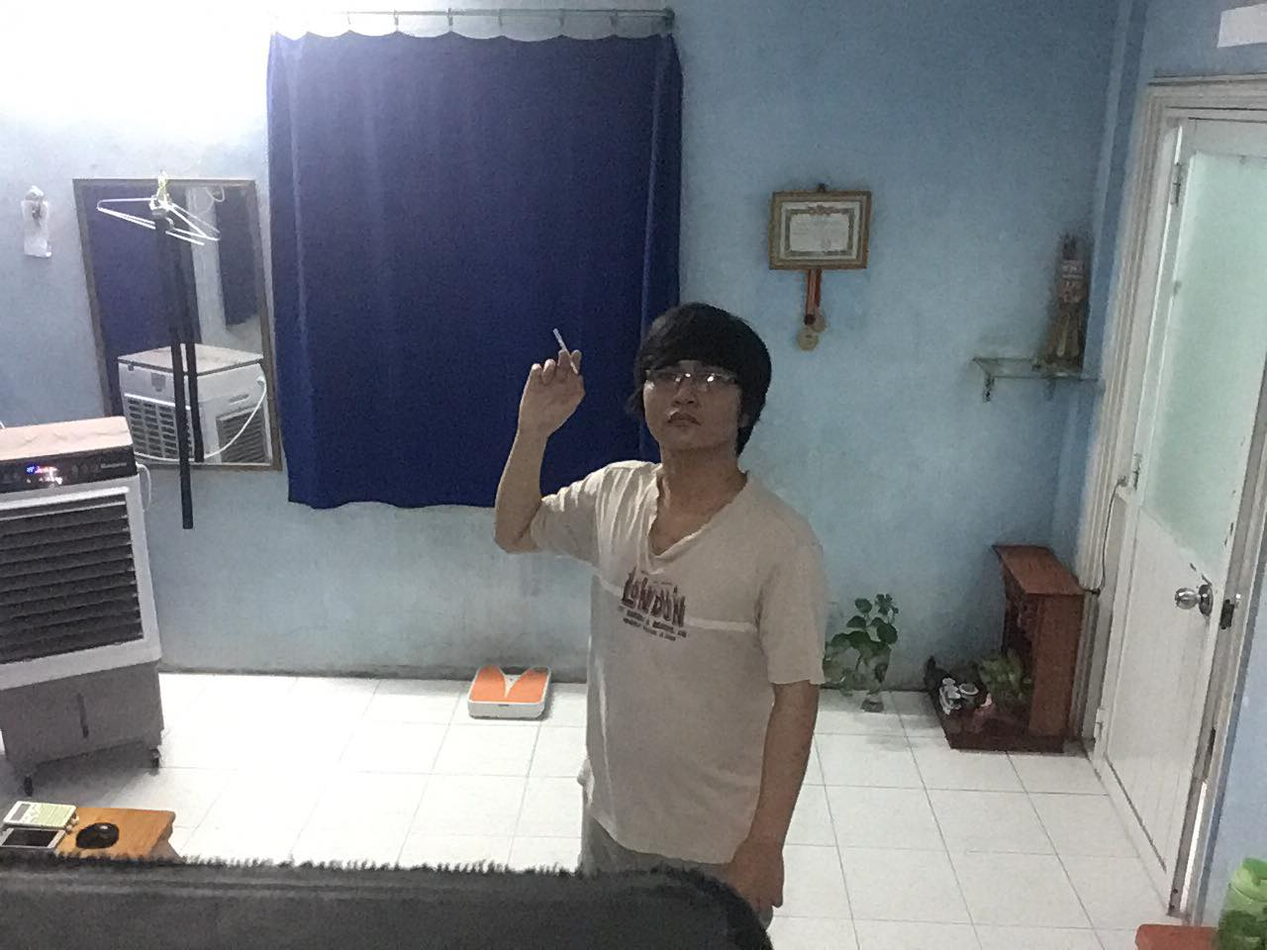cigarette: (547, 324, 569, 350)
person: (487, 313, 831, 937)
